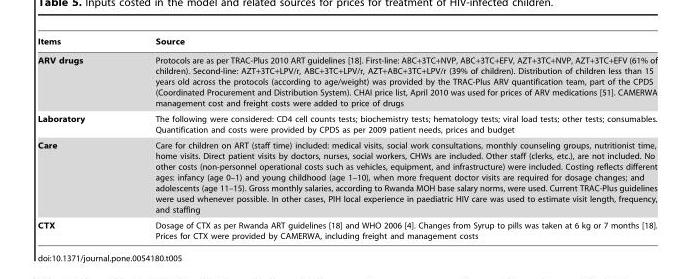table: (37, 36, 656, 240)
table column: (119, 36, 656, 240), (37, 36, 119, 240)
table column header: (37, 36, 656, 49)
table row: (37, 137, 656, 217), (37, 49, 656, 110), (37, 110, 656, 137), (37, 217, 656, 240), (37, 36, 656, 49)
